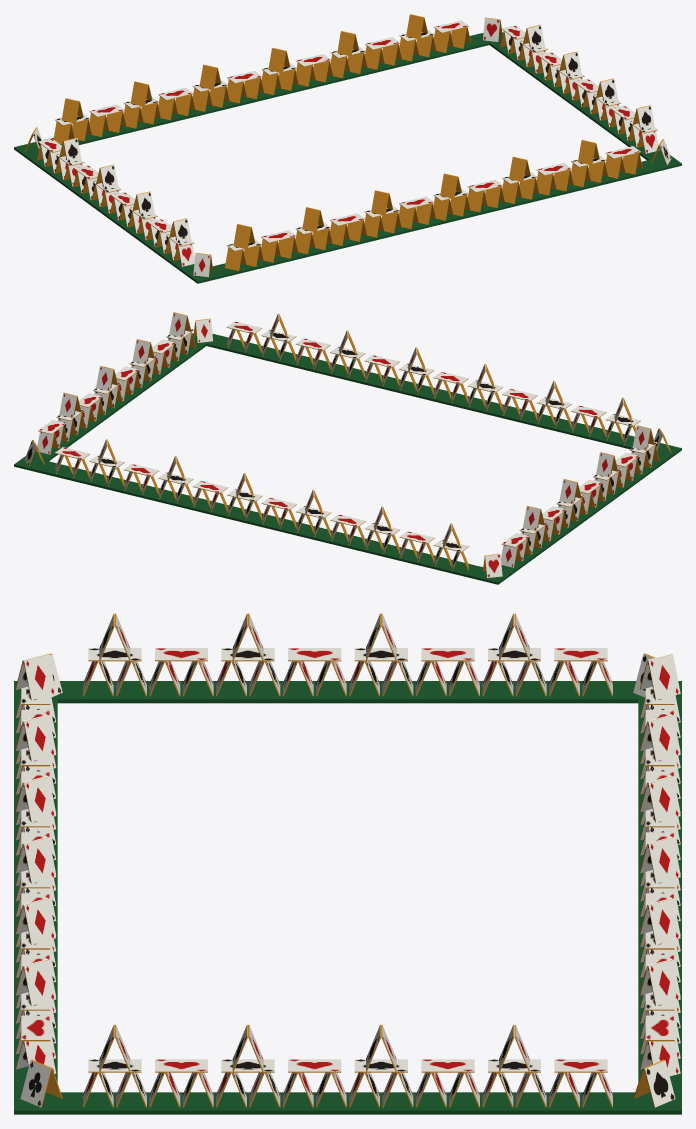
The model's file is Rim_Cards.fbx.
3 views of the same model, one above another, from view 1: azimuth 30°, elevation 25°; view 2: azimuth 150°, elevation 25°; view 3: azimuth 270°, elevation 25° (orthographic). The views are drawn at different scales.
Parts seen in each view (by area): view 1: Rim_Cards; view 2: Rim_Cards; view 3: Rim_Cards.
Boxes of the visible parts, box(x1,y1,x2,y2) form: Rim_Cards: box(14, 14, 681, 283); Rim_Cards: box(14, 312, 681, 584); Rim_Cards: box(14, 613, 681, 1114).
Bounding box in the file's own units: 3.5 × 0.2832 × 2.3.
1 material, 1 textured.
